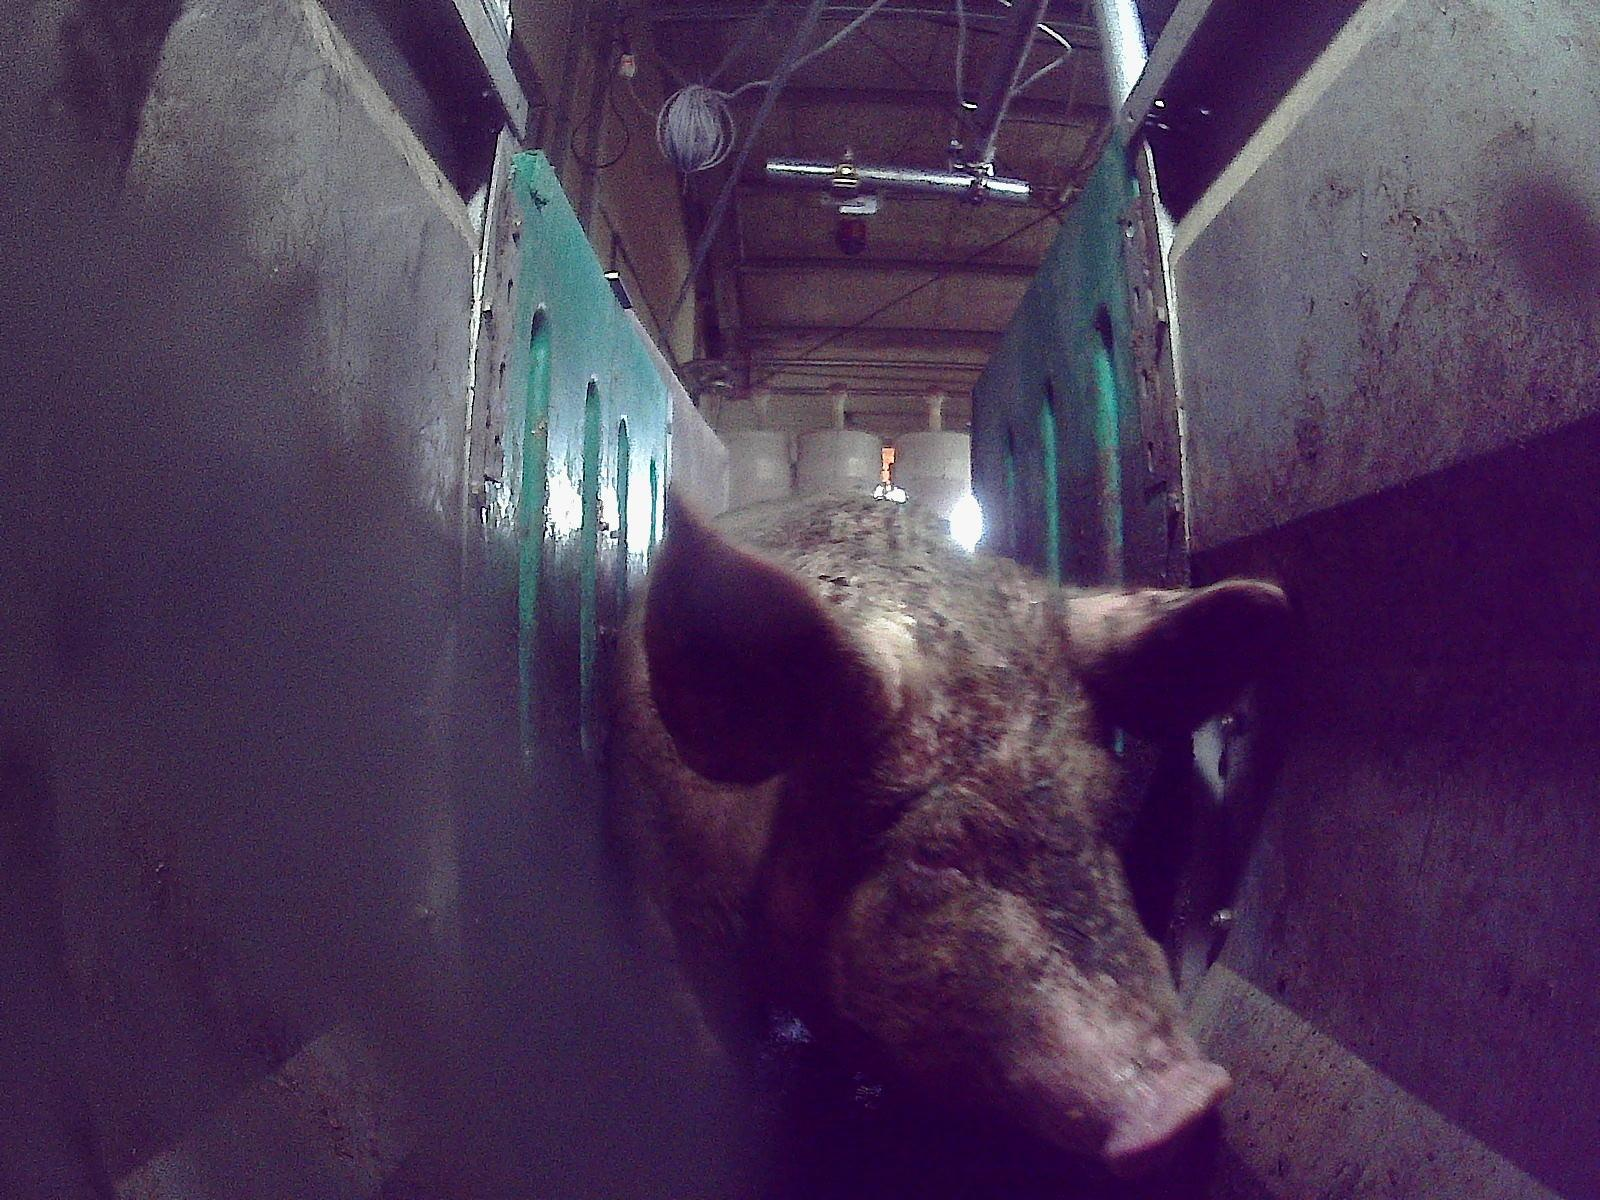Face: (783, 577, 1236, 1175)
